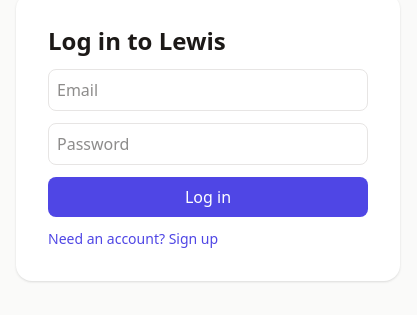
Test case: Login › shows an error on bad credentials
Type "a@b.com" into the field labelled "Email" at (208, 90), box [48,69,368,111]
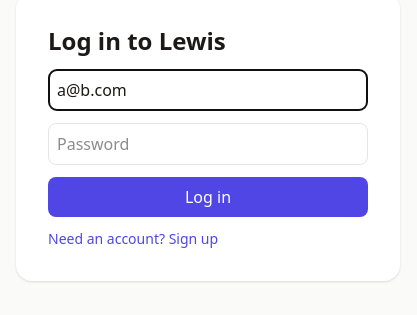
Type "wrong" into the password field labelled "Password" at (208, 144), box [48,123,368,165]
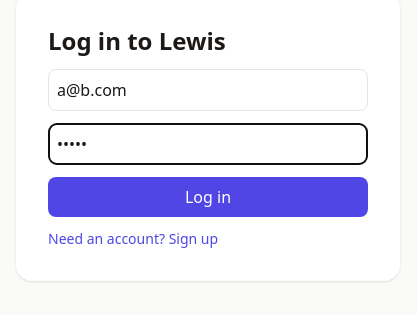
Click the button "Log in" at (208, 197), box [48,177,368,217]
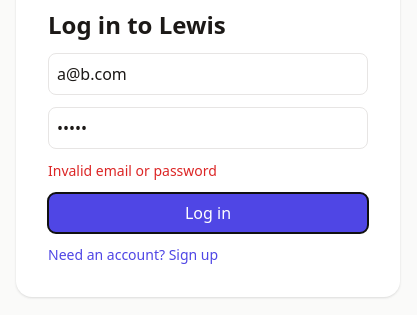
Expected: the text "Invalid email or password" is shown, [48,161,217,180]
